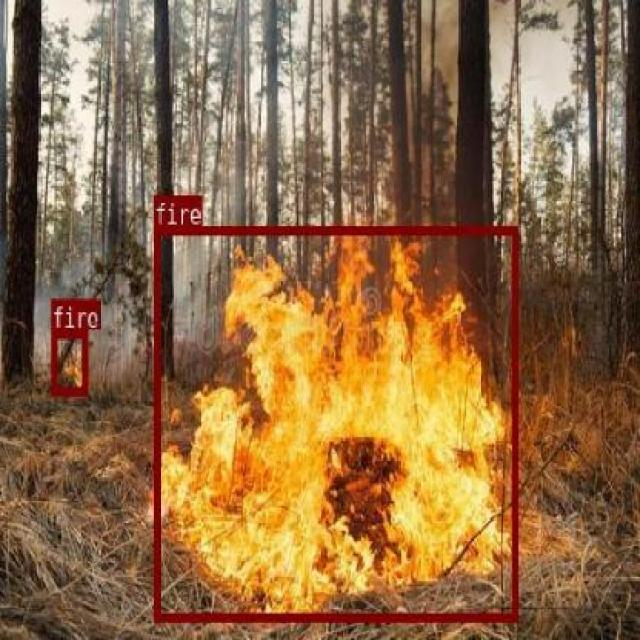fire: (152, 224, 517, 620), (50, 329, 86, 394)
